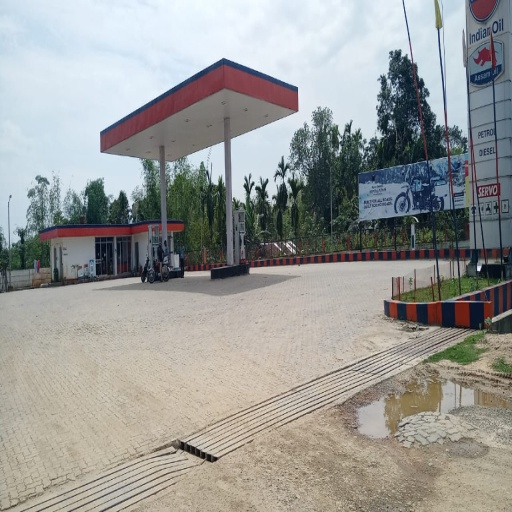roof: (98, 60, 300, 164)
